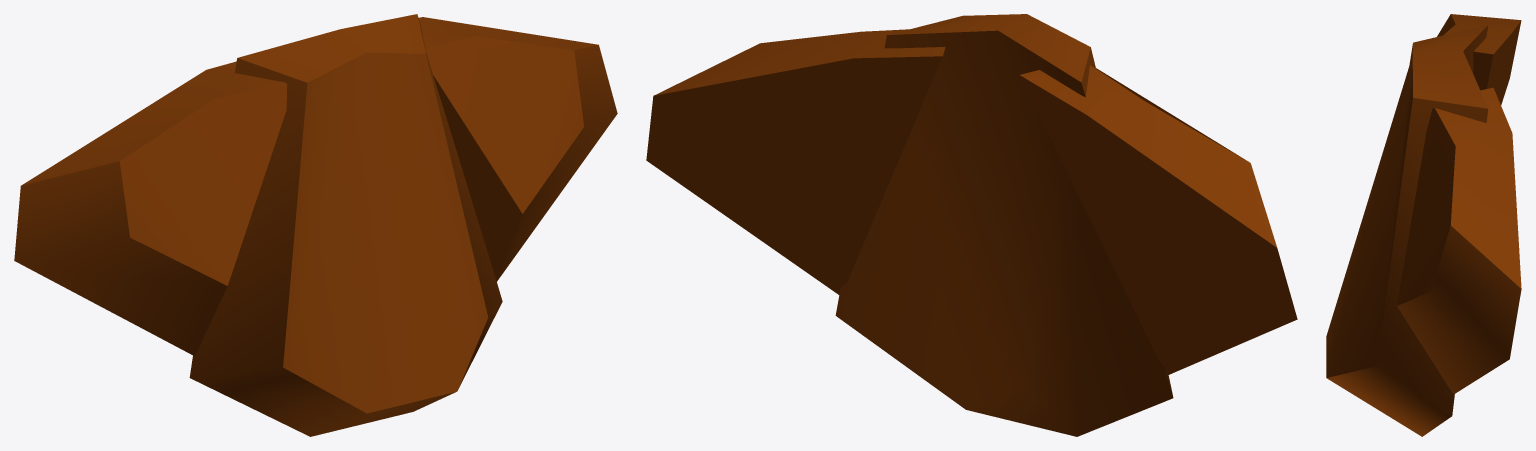
File: Hair_22_C02.fbx
3 views of the same model, side by side, from view 1: azimuth 30°, elevation 25°; view 2: azimuth 150°, elevation 25°; view 3: azimuth 270°, elevation 25° (orthographic). The views are drawn at different scales.
Visible parts, largest first — view 1: Hair_22_C02; view 2: Hair_22_C02; view 3: Hair_22_C02.
Part boxes in pixels (x1=…): Hair_22_C02: x1=14, y1=14, x2=617, y2=436; Hair_22_C02: x1=646, y1=14, x2=1297, y2=436; Hair_22_C02: x1=1326, y1=14, x2=1521, y2=436.
Bounding box in the file's own units: 56.45 × 33.93 × 16.58.
